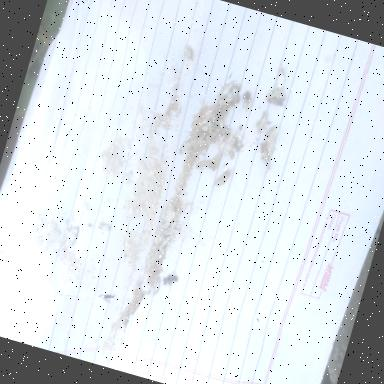pbw: (218, 77, 236, 103), (216, 168, 232, 190), (240, 89, 254, 114), (256, 110, 270, 134), (265, 125, 280, 147), (266, 85, 284, 103), (178, 137, 194, 157), (195, 156, 212, 172), (194, 130, 208, 149), (218, 94, 234, 109), (215, 106, 229, 123), (265, 139, 276, 159), (96, 220, 112, 232)
